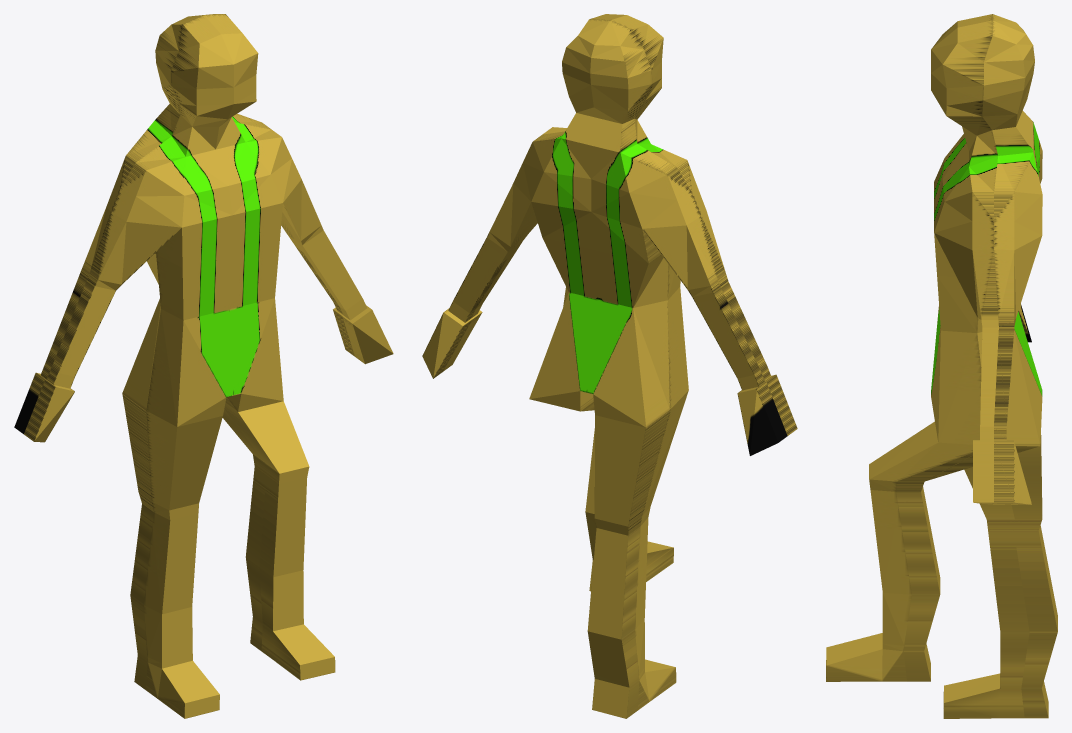
3 views of the same model, side by side, from view 1: azimuth 30°, elevation 25°; view 2: azimuth 150°, elevation 25°; view 3: azimuth 270°, elevation 25° (orthographic). The views are drawn at different scales.
Visible parts, largest first — view 1: Borat; view 2: Borat; view 3: Borat.
Part boxes in pixels (<box>): Borat: <box>14,14,393,718</box>; Borat: <box>422,14,797,718</box>; Borat: <box>826,14,1057,718</box>.
Bounding box in the file's own units: 1.79 × 3.21 × 0.9592.
